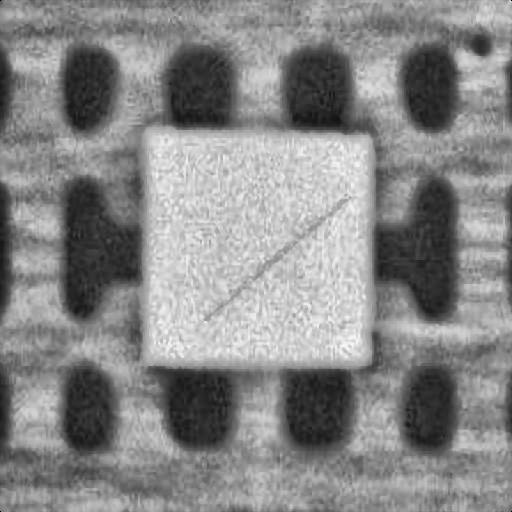DIE_CRACK: (299, 130, 512, 212)
